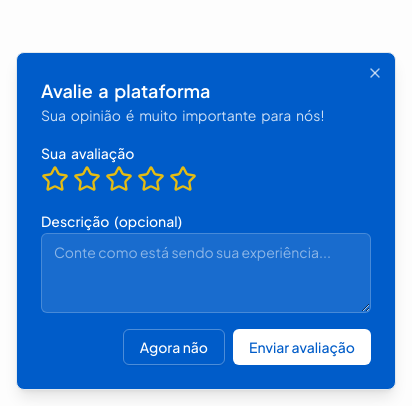
it: RatingPopup › should show error when submitting without selecting rating
Step 1. Click the button "Enviar avaliação" → (302, 347), box [233, 329, 371, 365]
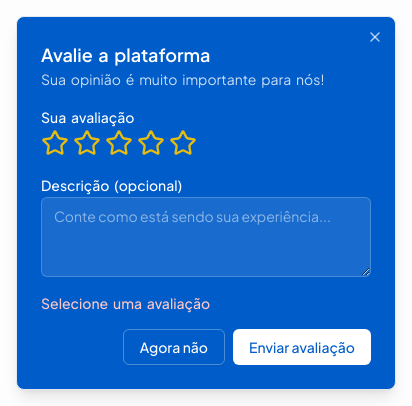
Result: the text "Selecione uma avaliação" is shown at [41, 294, 210, 312]
